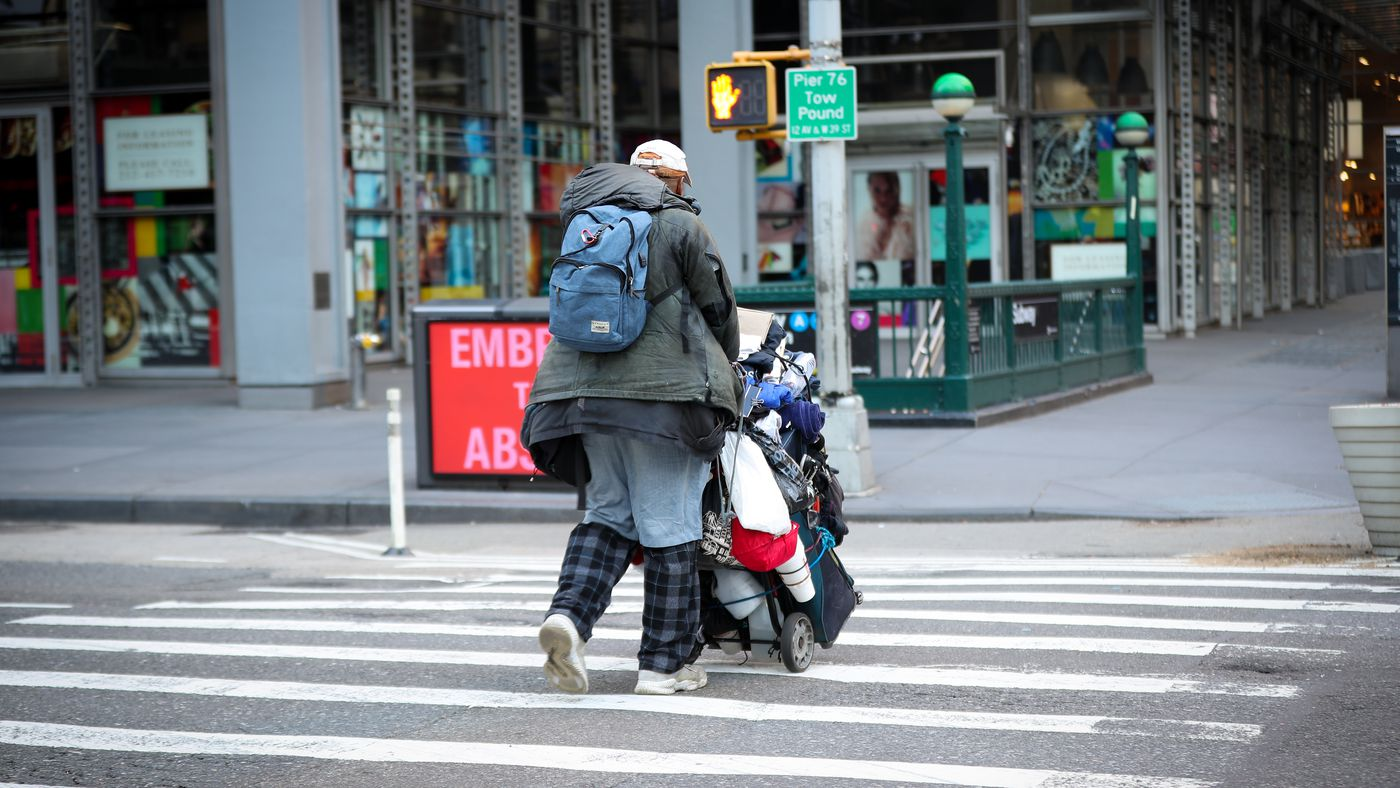person: (505, 124, 756, 702)
